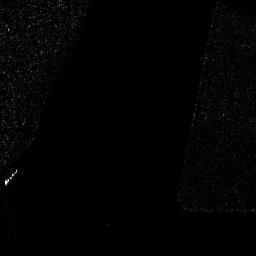ship: (2, 167, 18, 185)
